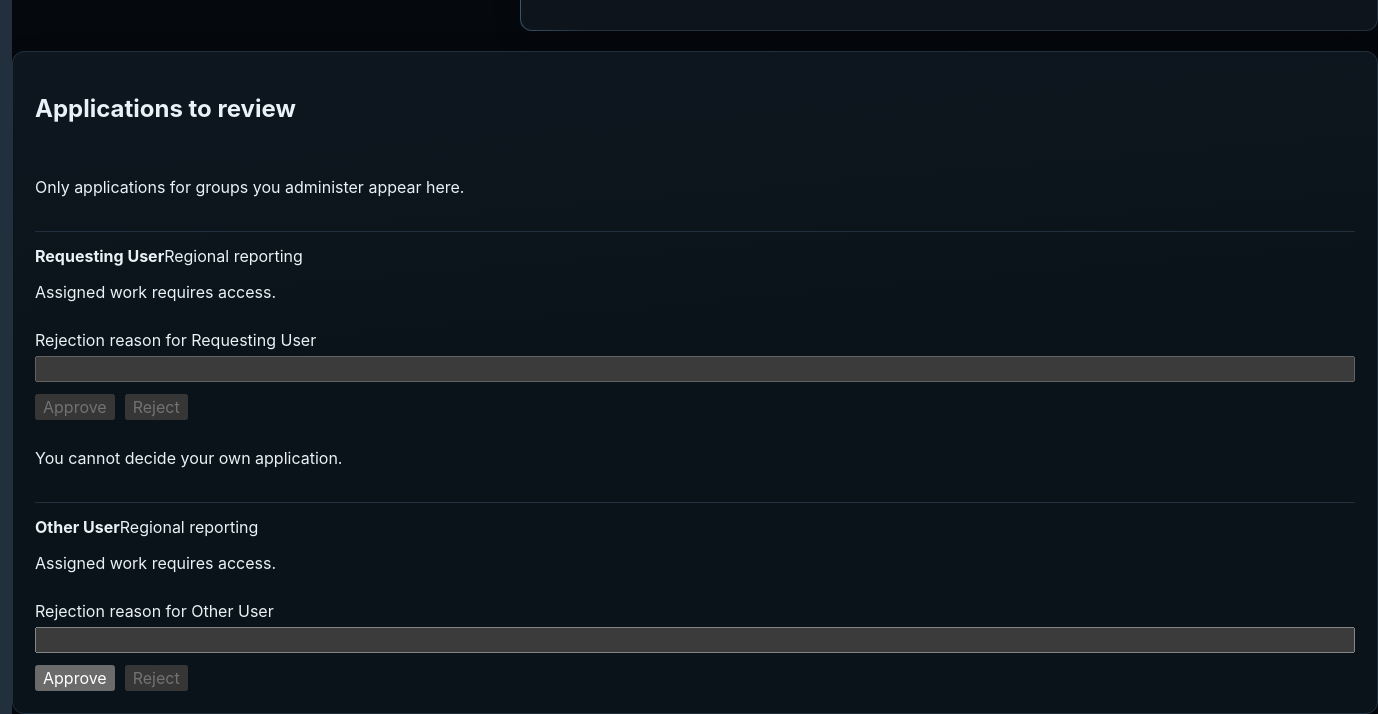
prevents self-decision and lets a delegated administrator reject another application
The width and height of the screenshot is (1378, 714).
(page scrolled)
Expected: the text "You cannot decide your own application." is shown, [35, 448, 342, 468]
Type "Need not shown." into the field labelled "Rejection reason for Other User" at (695, 640), box [35, 627, 1355, 653]
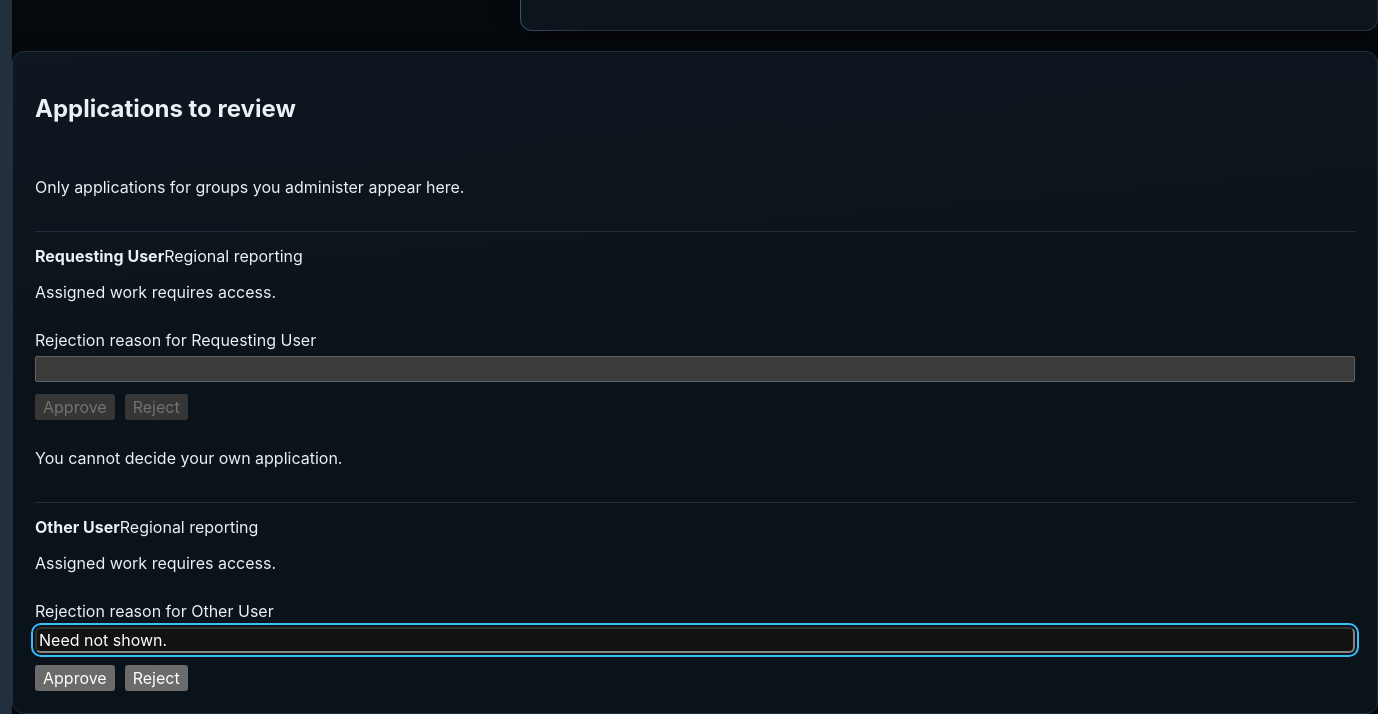
Click the 2nd button "Reject" at (156, 678), box [125, 665, 188, 691]
(page scrolled)
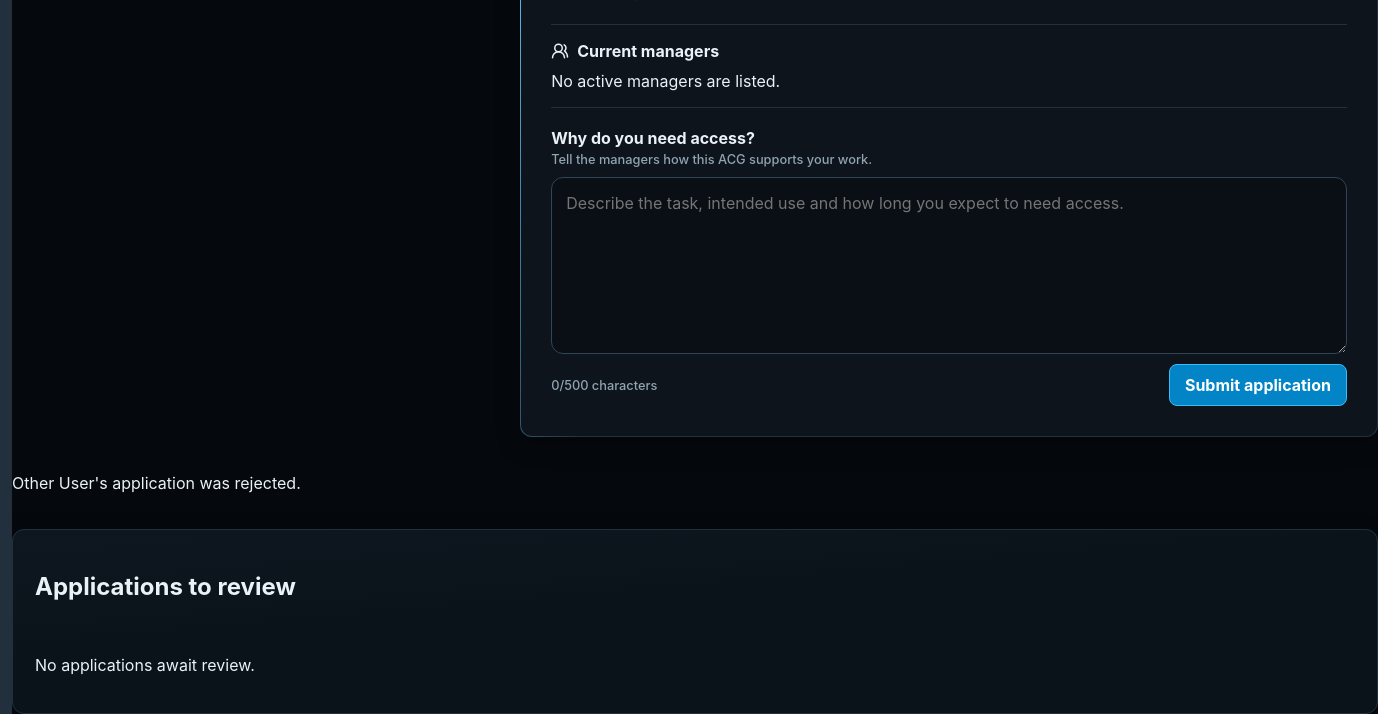
Now the text "Other User's application was rejected." is shown, box [12, 473, 301, 493]
